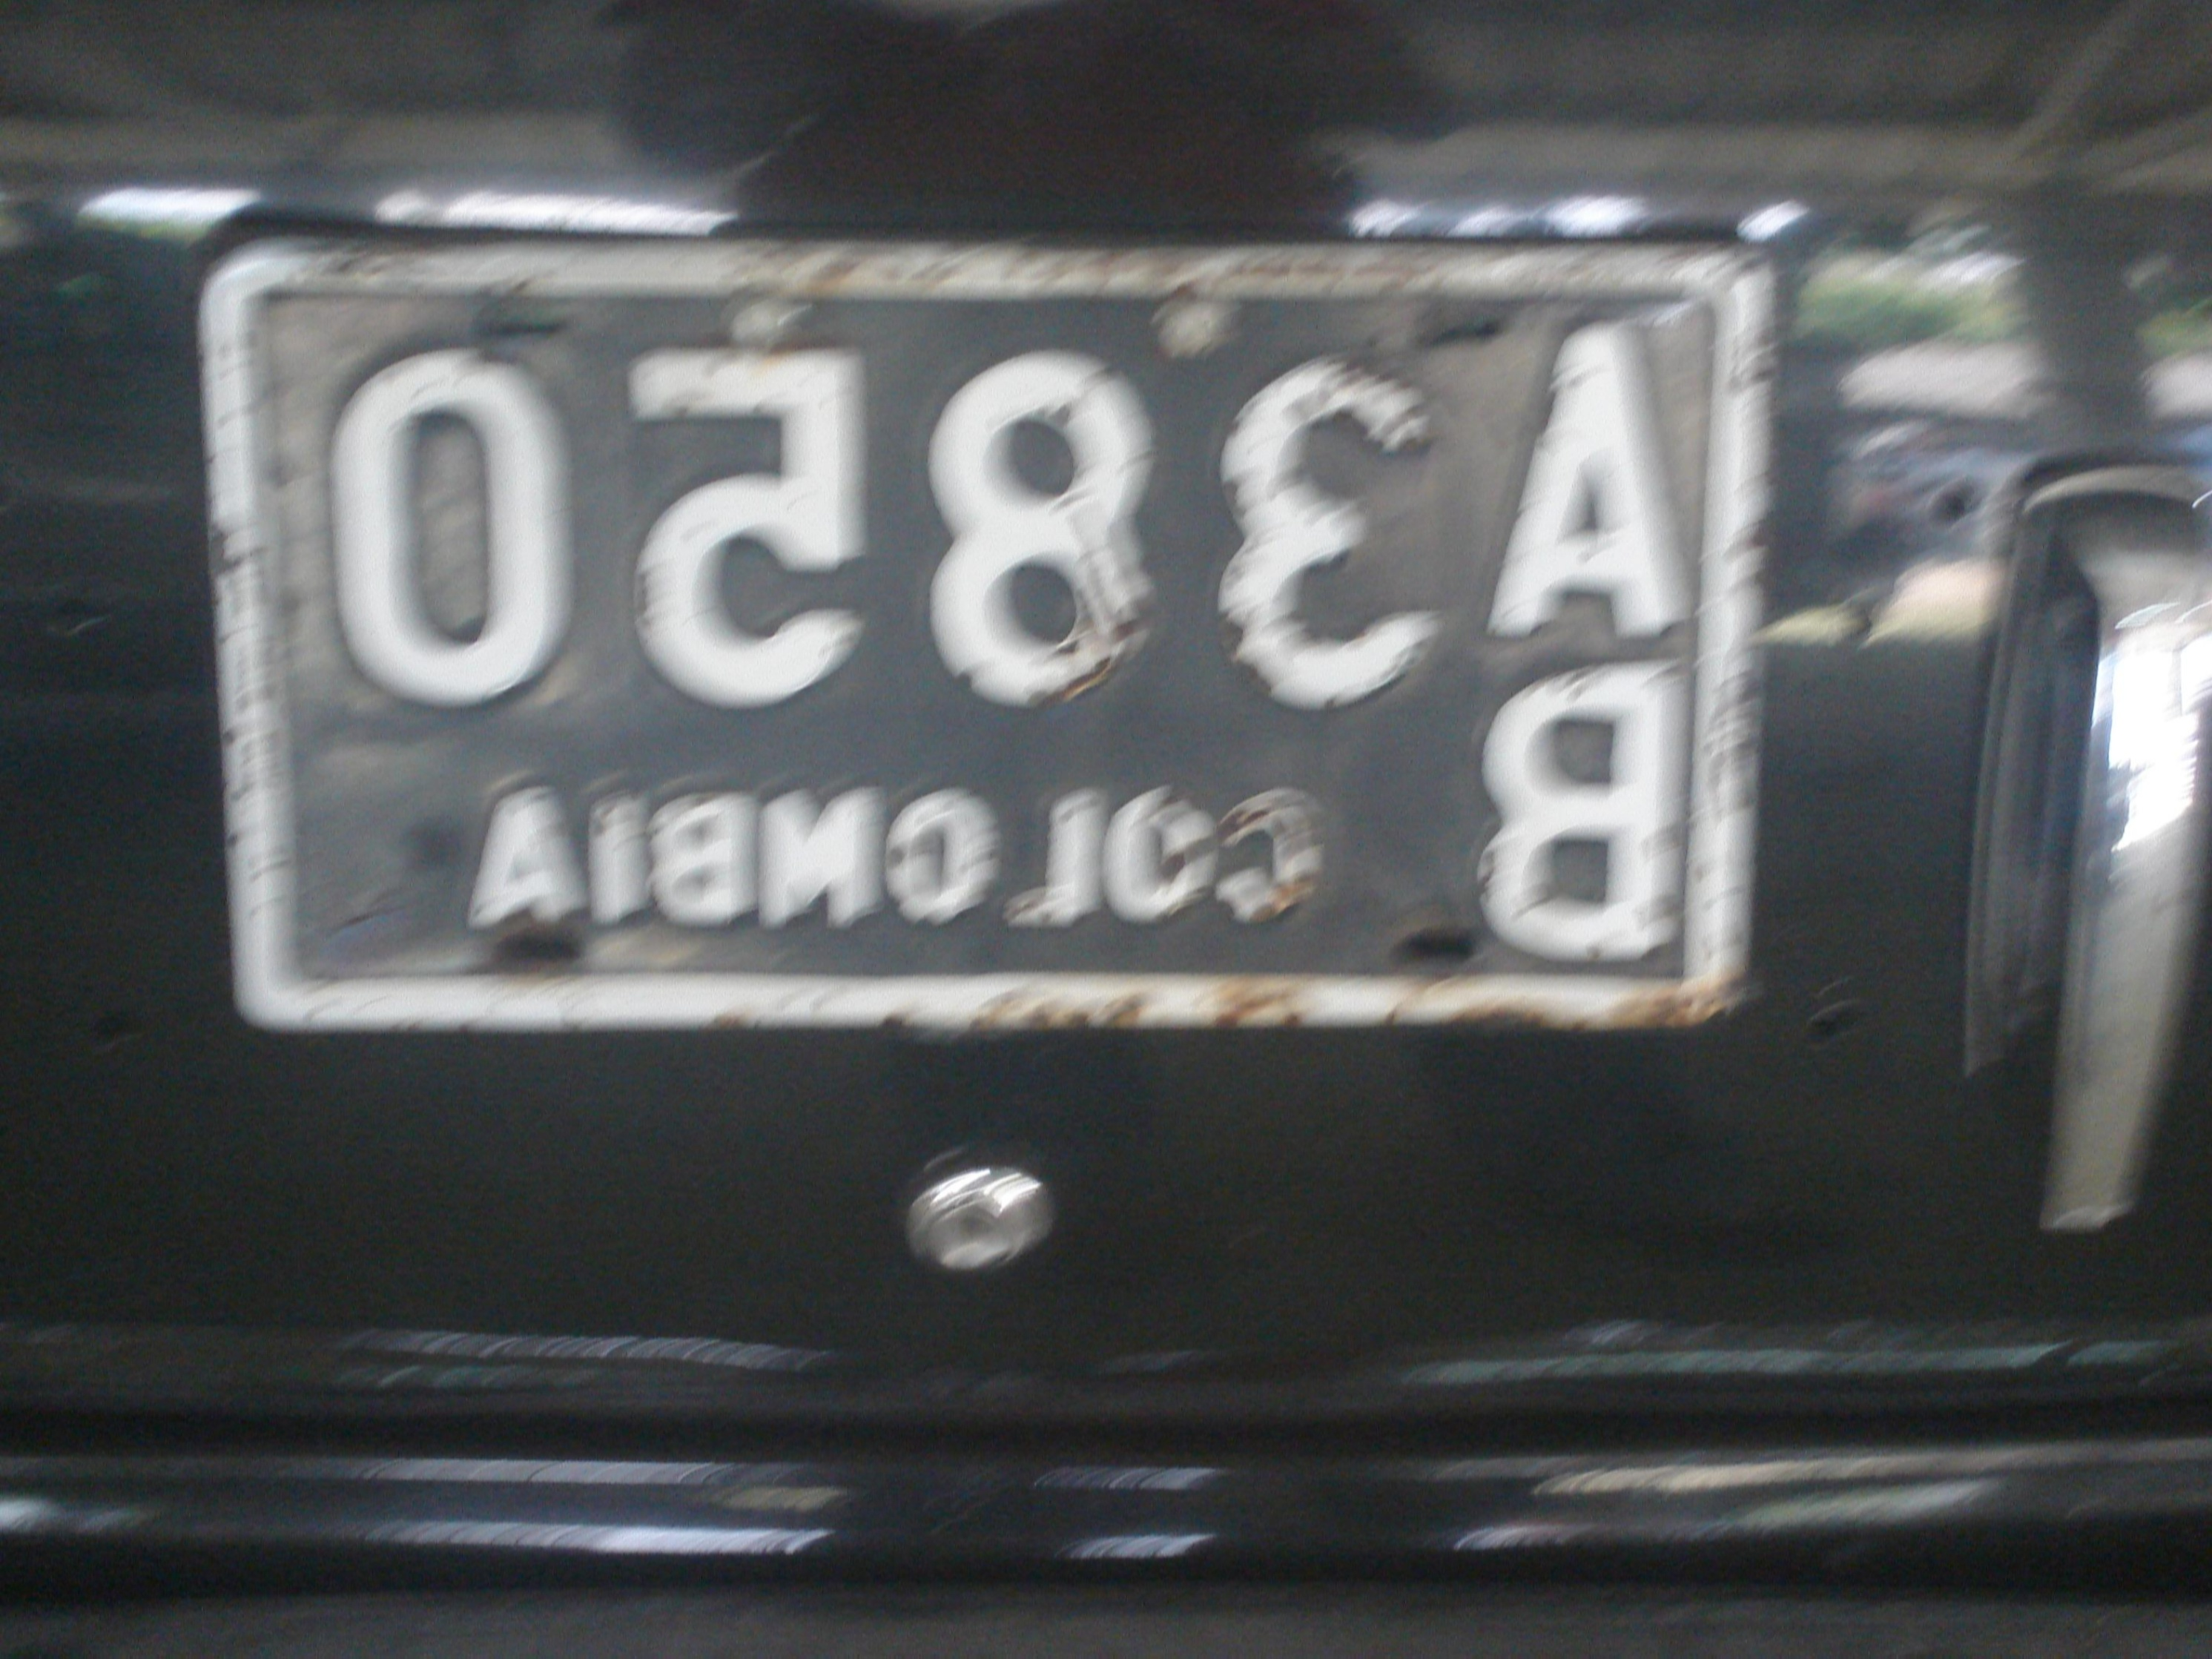placas: (191, 211, 1791, 1061)
